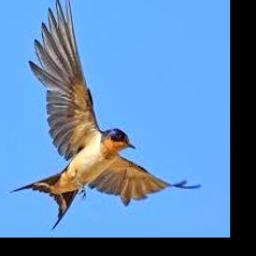Swallow: (9, 0, 200, 232)
